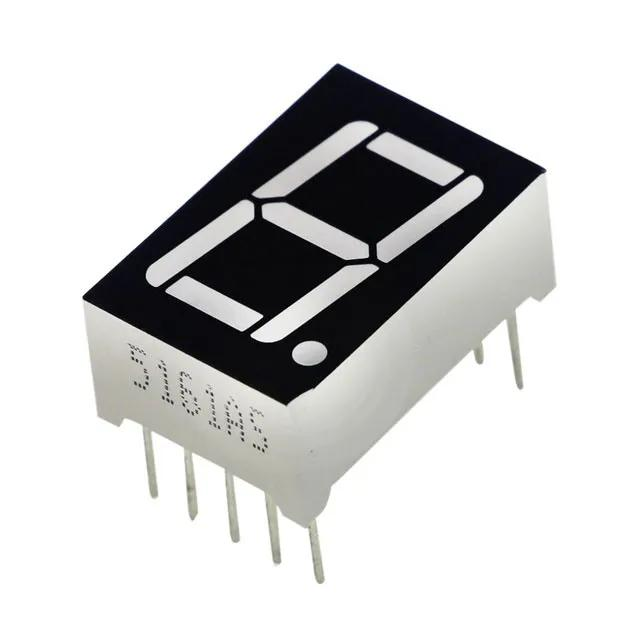Display: (81, 65, 563, 479)
